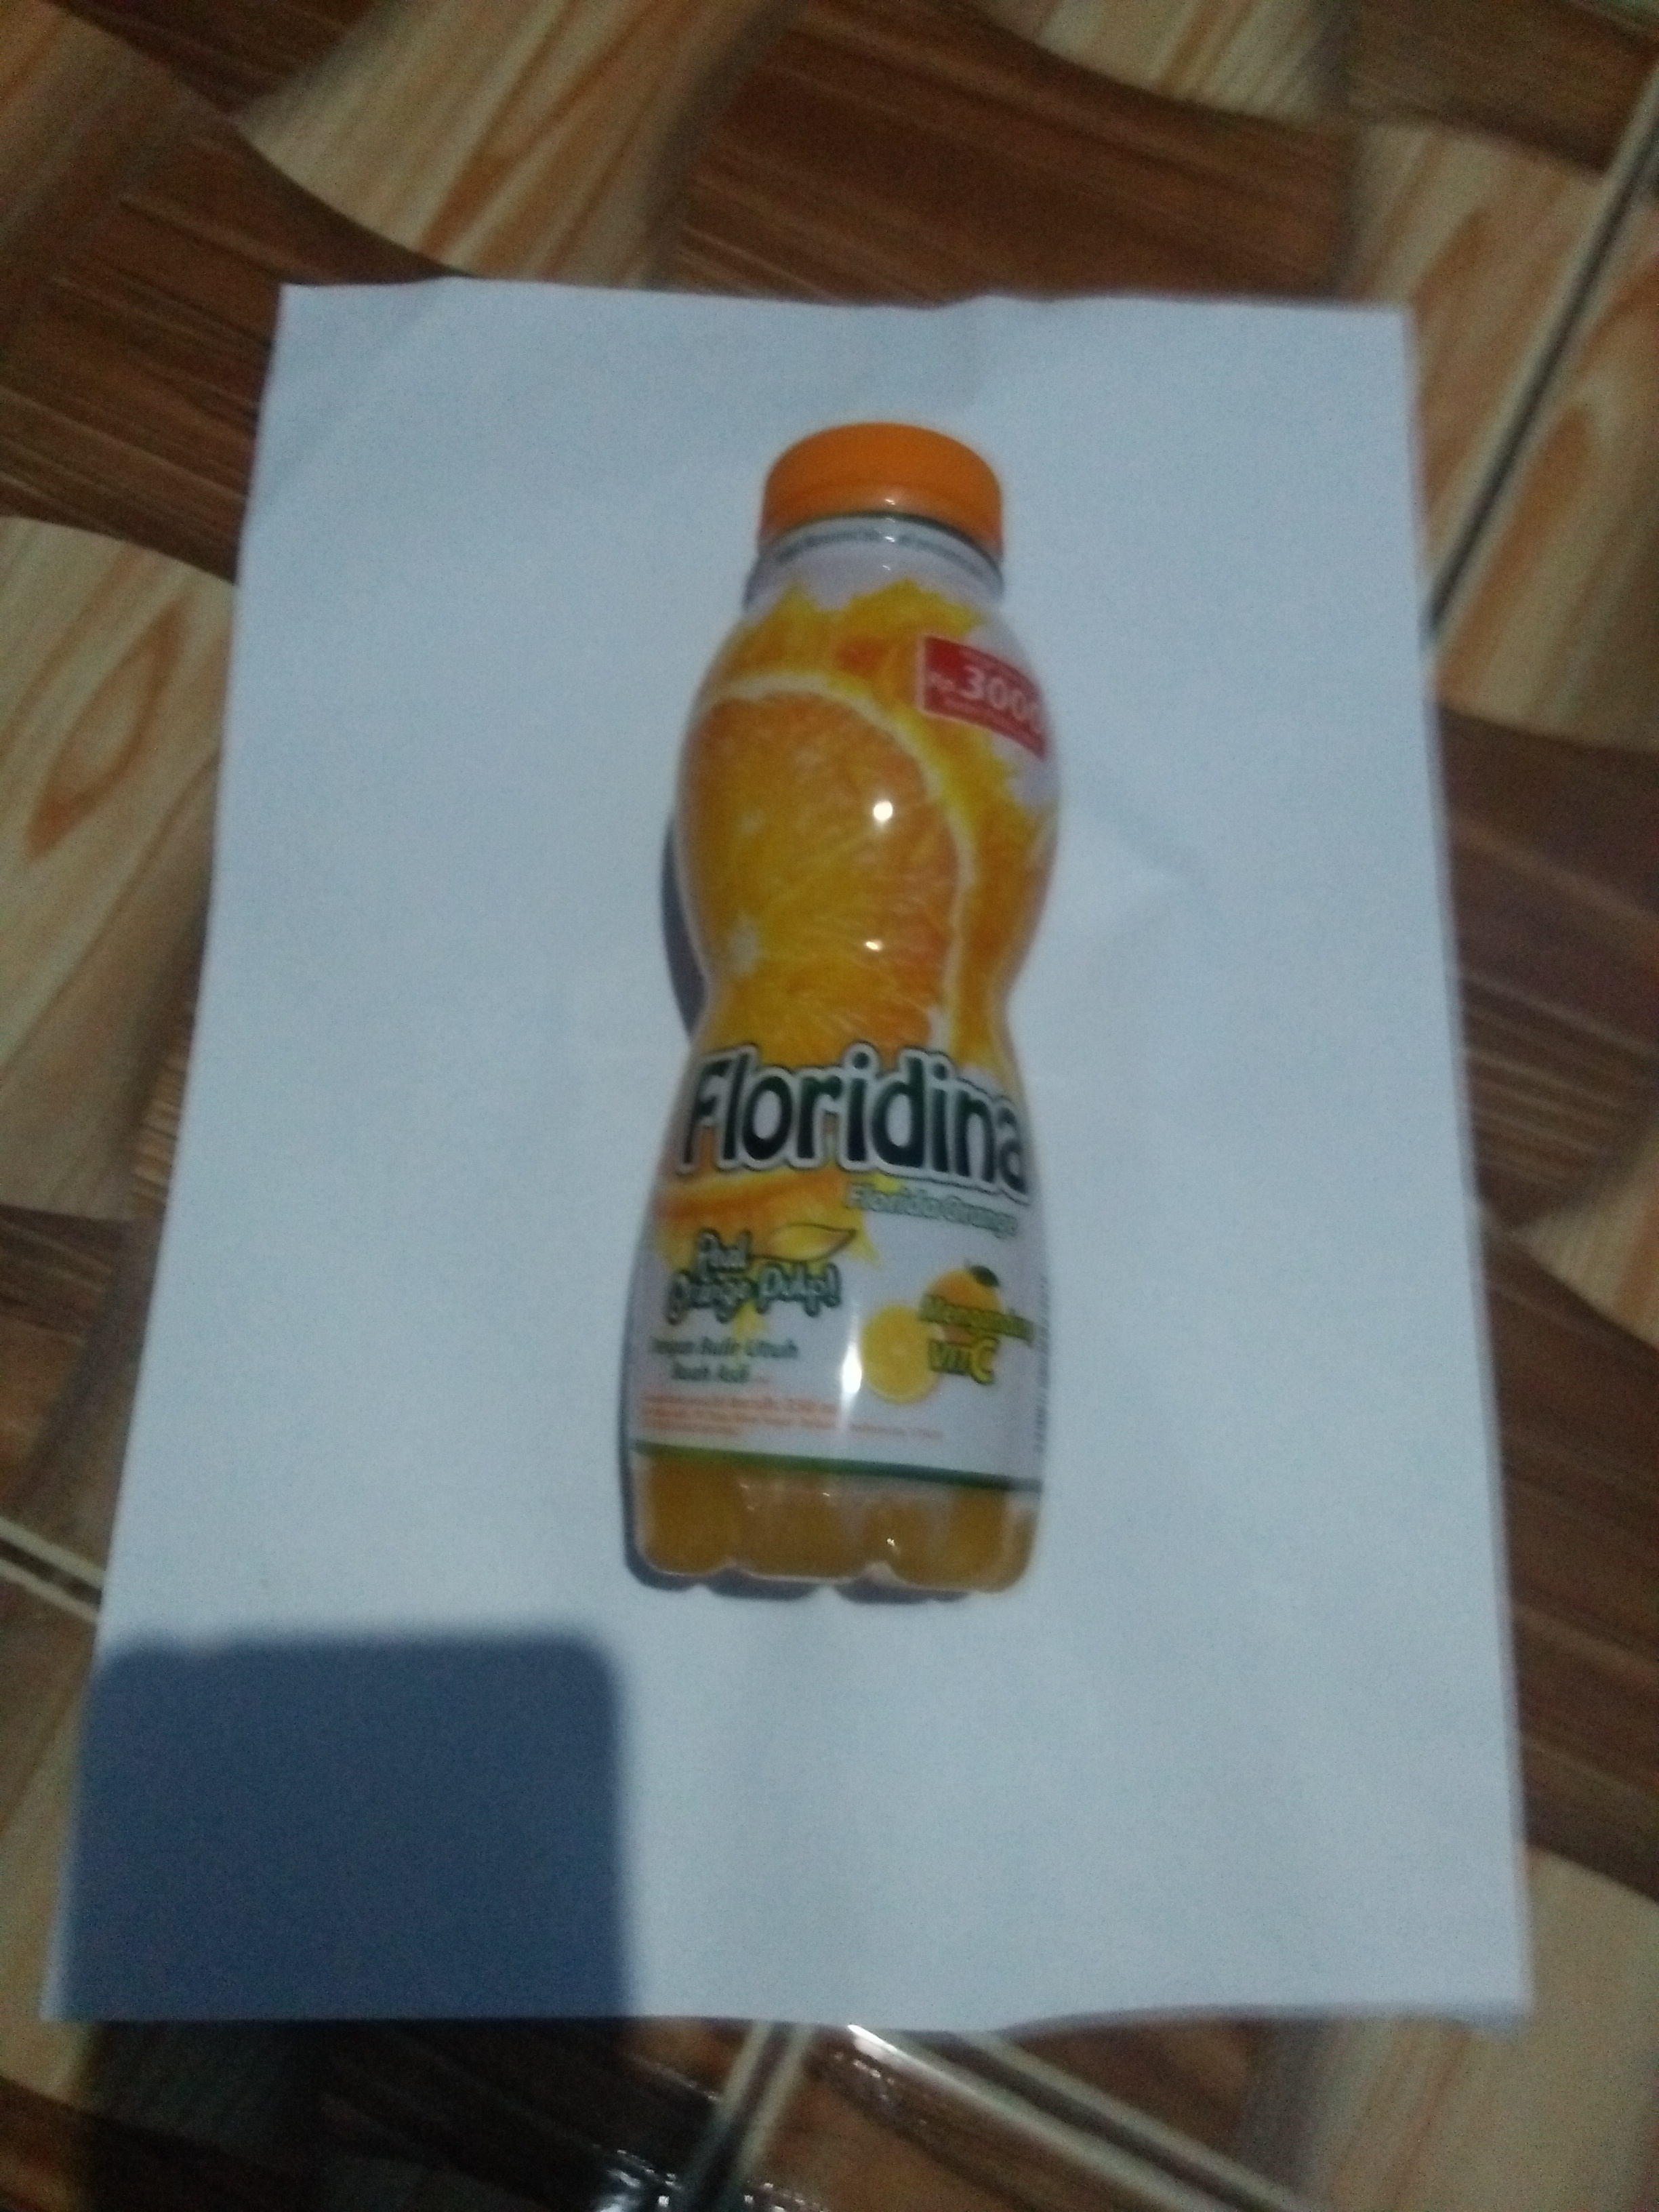Floridina: (612, 395, 1070, 1620)
